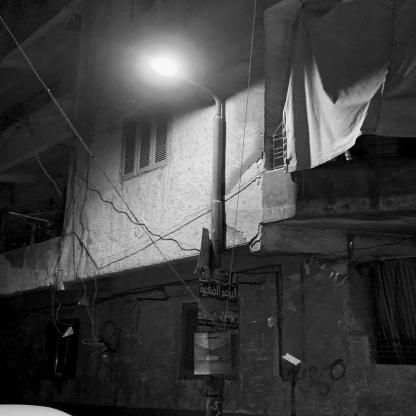light_pole: (148, 58, 225, 416)
